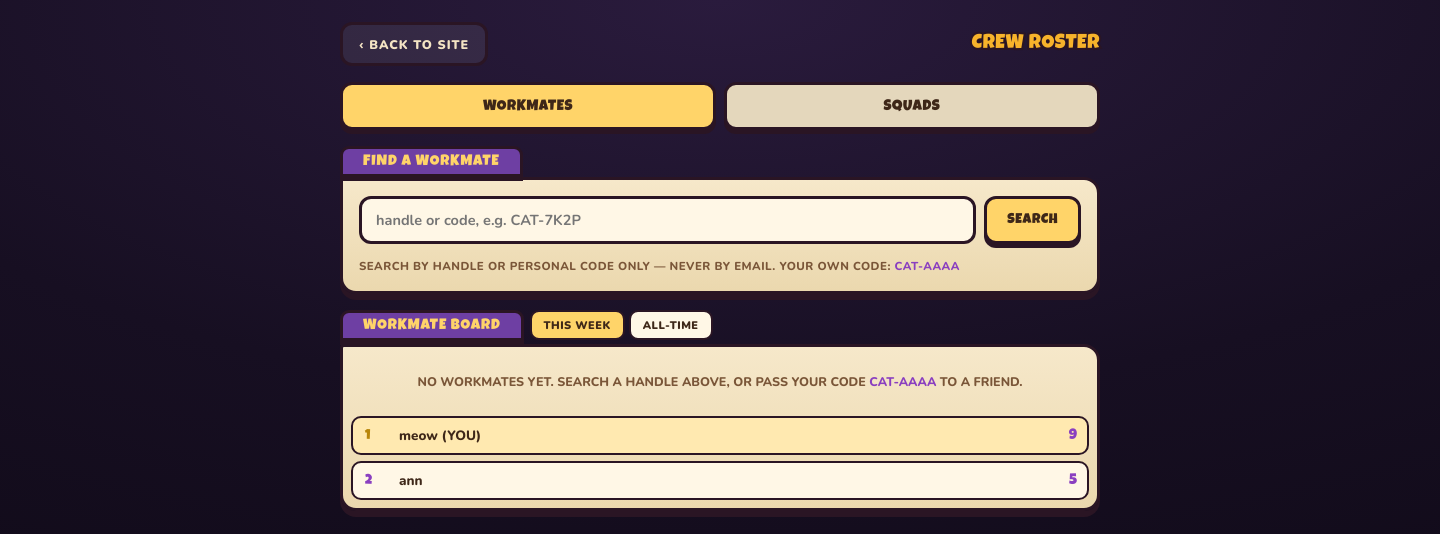
Squads › shows why a join failed
Click the button "SQUADS": (912, 106) [724,82,1100,130]
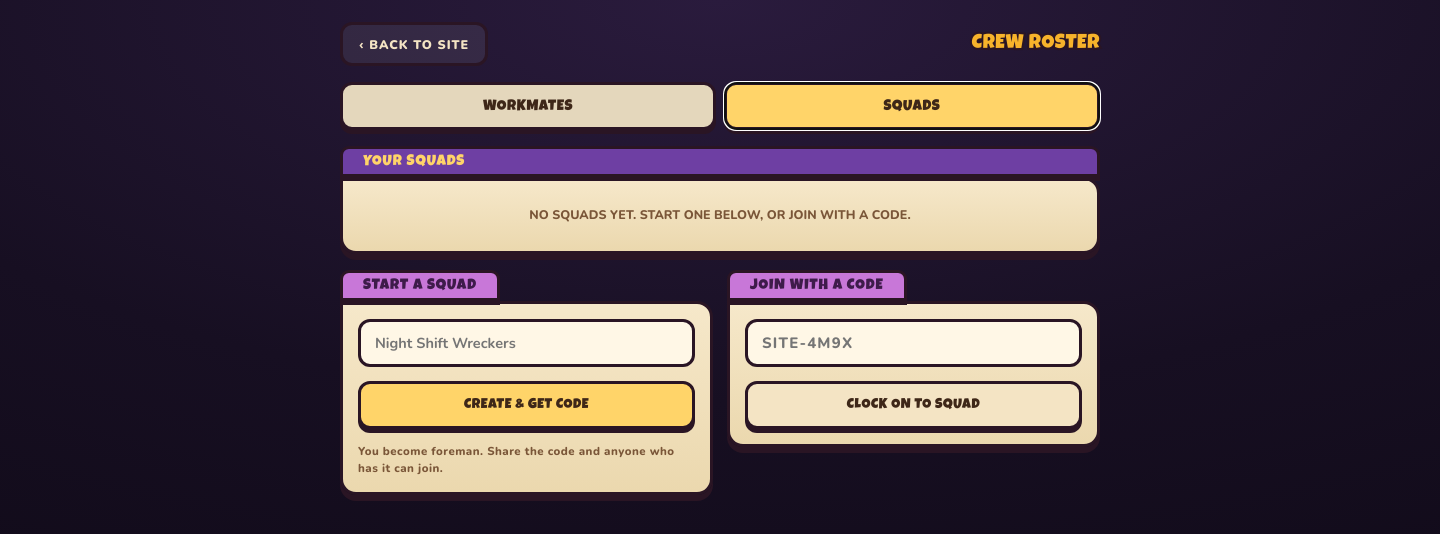
In the field with placeholder "SITE-4M9X": (914, 343) [745,319,1082,367], type "site-0000"
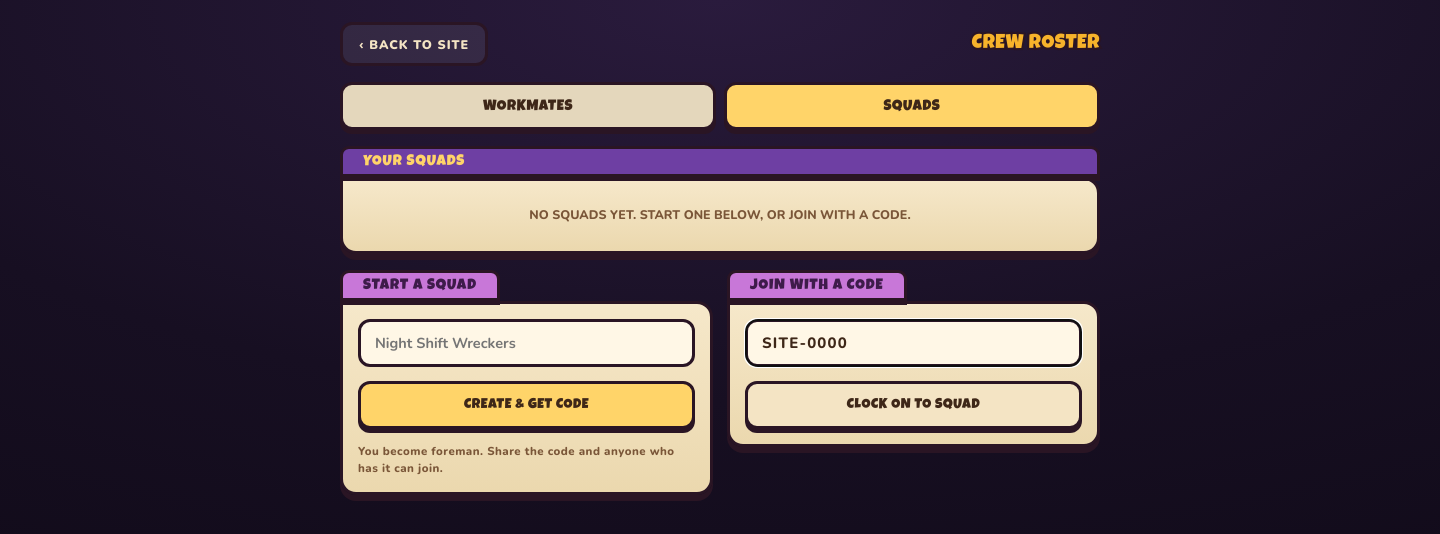
Click the button "CLOCK ON TO SQUAD": (914, 405) [745,381,1082,429]
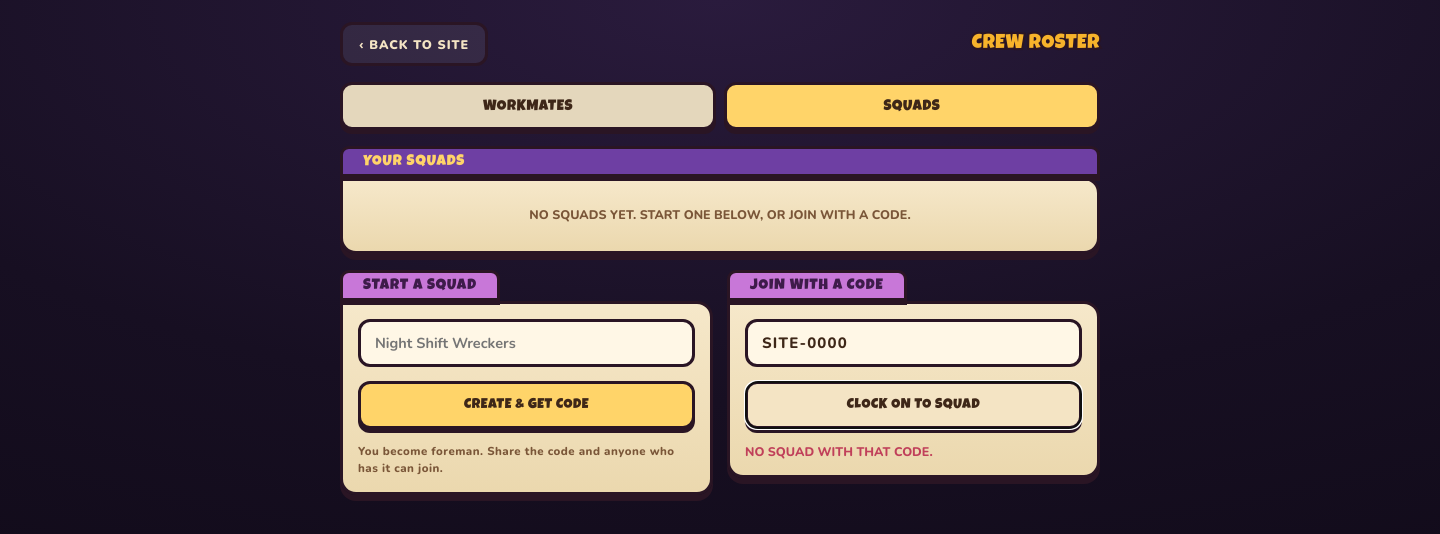
Expected: the text "NO SQUAD WITH THAT CODE." is shown, [745,443,933,460]
